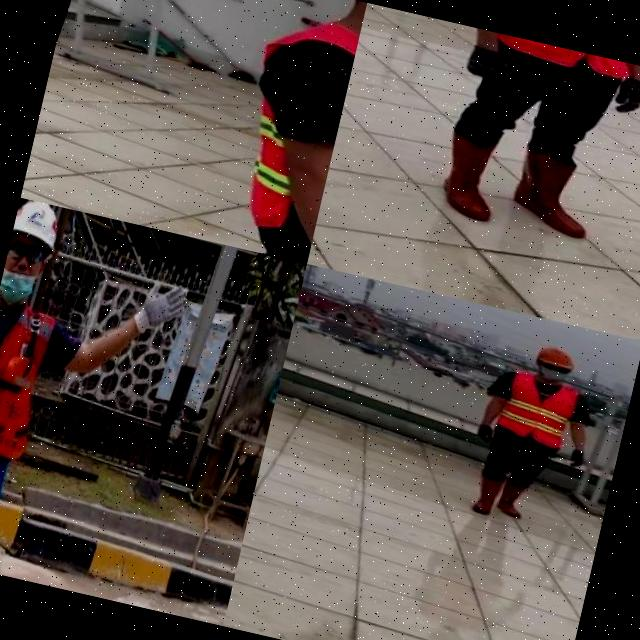boots: (413, 119, 517, 228), (510, 143, 608, 240), (464, 468, 508, 518), (492, 476, 534, 522)
helmet: (8, 198, 70, 260), (532, 340, 578, 373)
vest: (196, 0, 362, 255), (0, 288, 72, 521), (492, 367, 584, 453)
